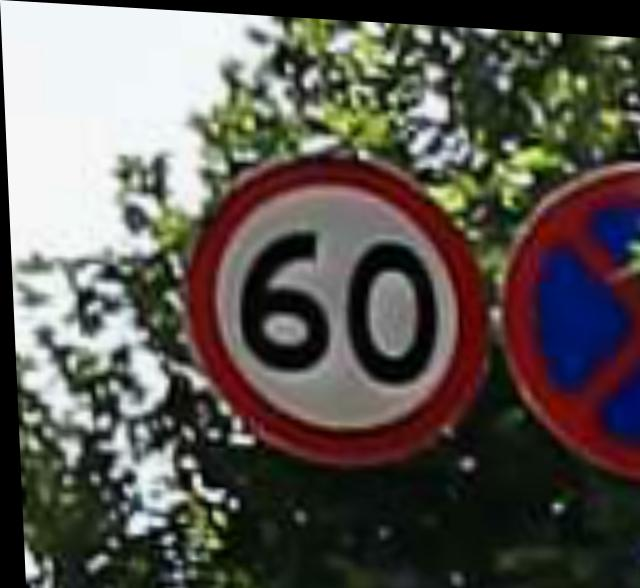limit60: (164, 112, 498, 473)
